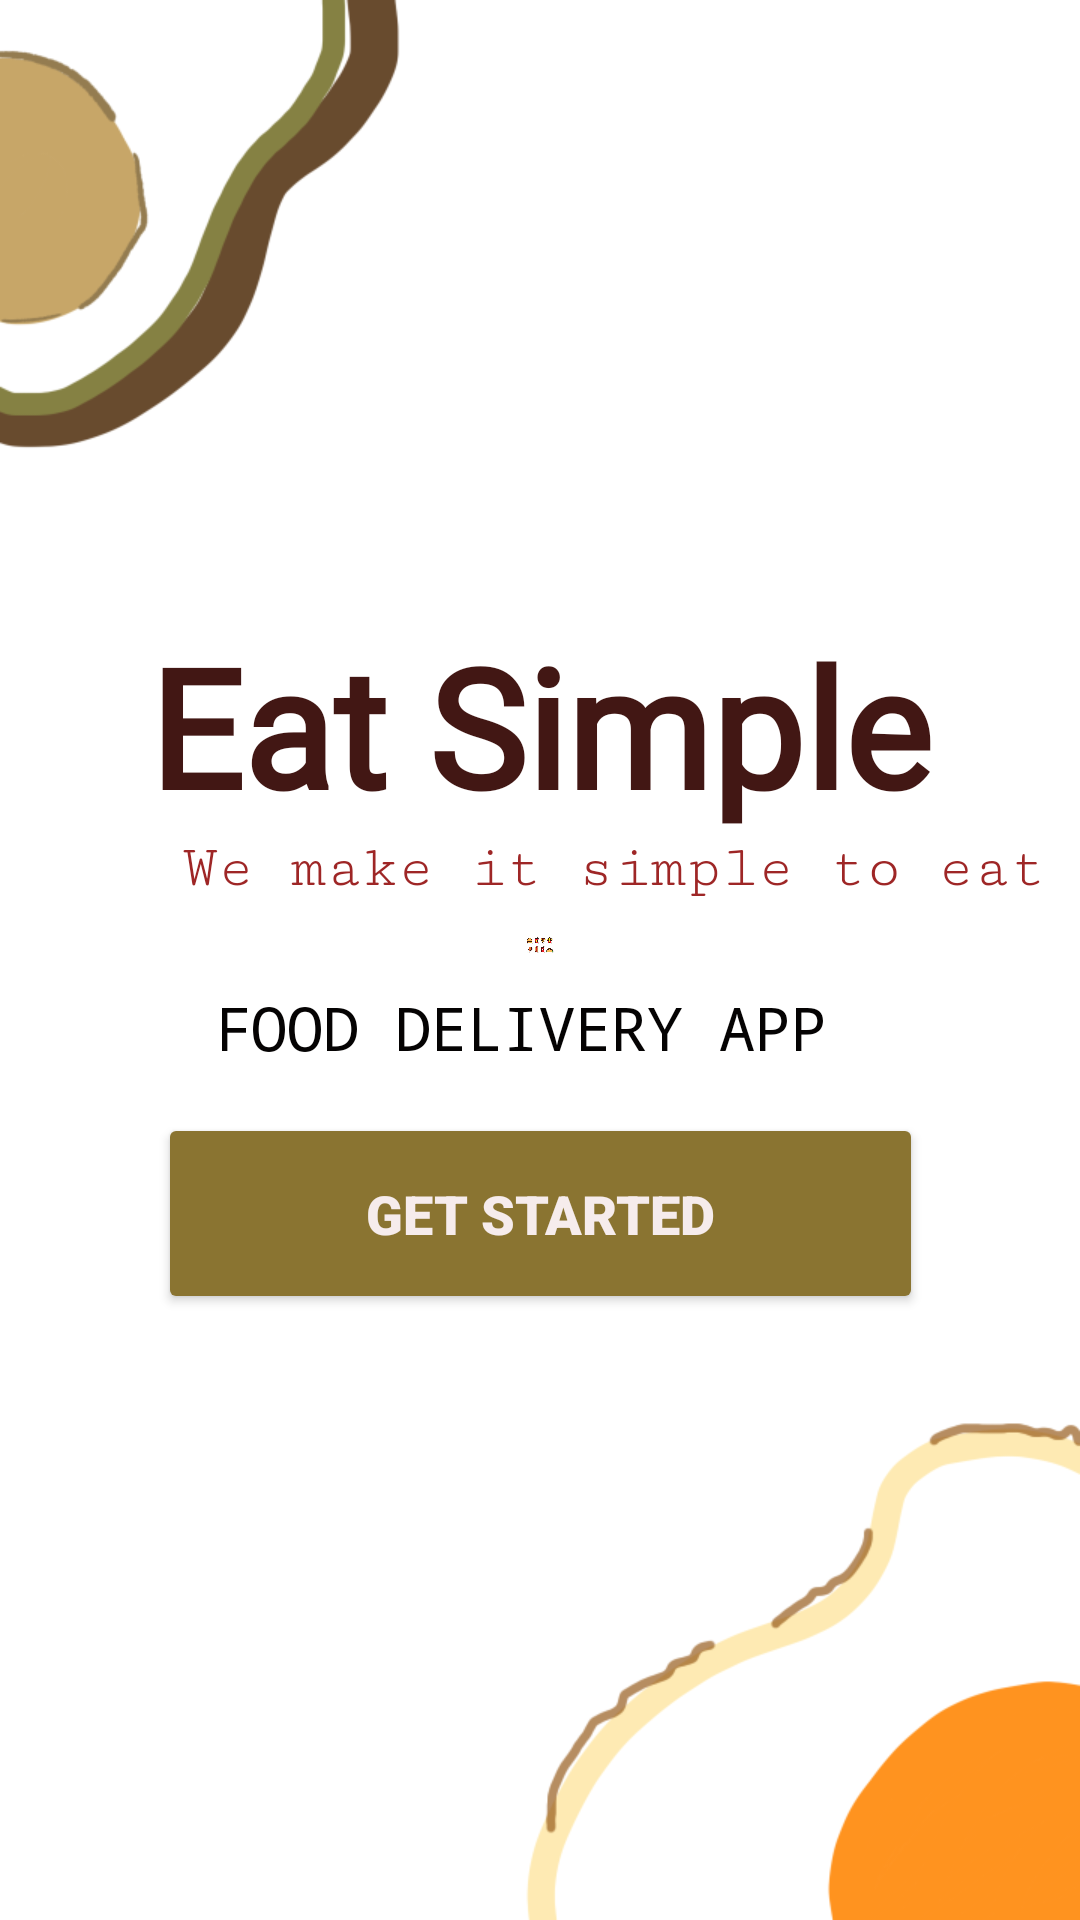

Icon bounding boxes for this 1080 × 1920 phone screenshot, format (x1, y1, x2, y2):
fastfood: (527, 937, 554, 953)
